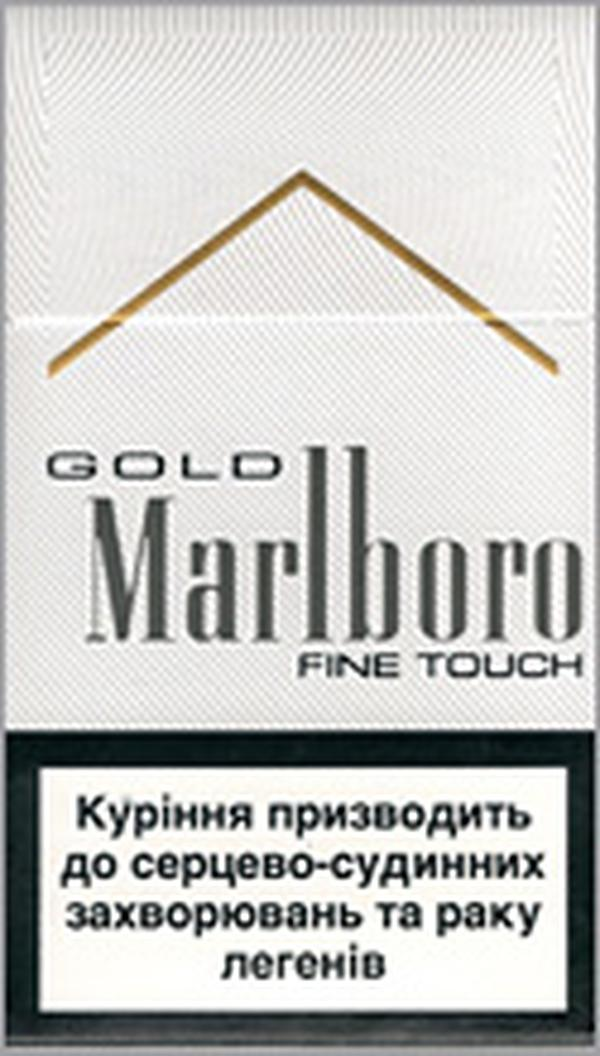marlboro_gold: (4, 6, 598, 1044)
